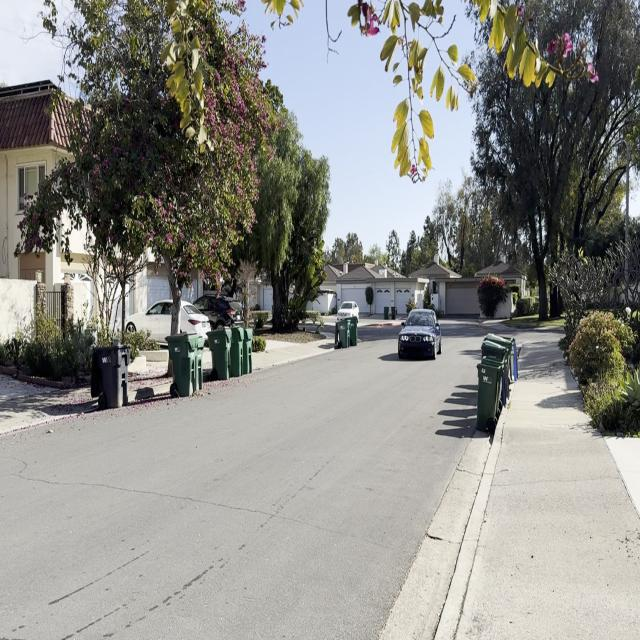Carbeetle: (396, 296, 445, 366)
